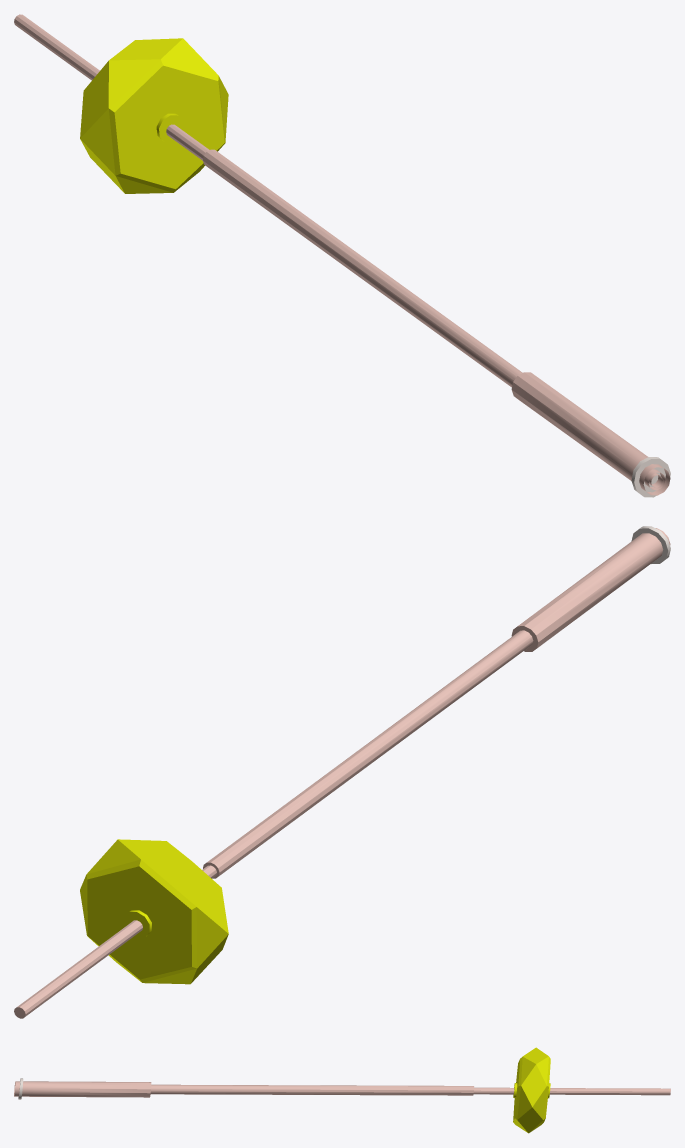
The model's file is branch.031_b.glb.
The picture shows the model from 3 angles, top to bottom: view 1: azimuth 30°, elevation 25°; view 2: azimuth 150°, elevation 25°; view 3: azimuth 270°, elevation 25°; orthographic projection. The views are drawn at different scales.
Visible parts, largest first — view 1: glass.010, MET-59_3D-Model.17676, MET-59_3D-Model.17677; view 2: glass.010, MET-59_3D-Model.17676; view 3: MET-59_3D-Model.17676, glass.010.
Boxes of the visible parts, box(x1,y1,x2,y2) form: glass.010: box(80, 38, 228, 193); MET-59_3D-Model.17676: box(14, 14, 670, 495); MET-59_3D-Model.17677: box(631, 457, 670, 497); glass.010: box(80, 839, 228, 984); MET-59_3D-Model.17676: box(14, 528, 670, 1018); MET-59_3D-Model.17676: box(14, 1081, 670, 1097); glass.010: box(513, 1047, 550, 1133).
Bounding box in the file's own units: 0.0987 × 0.0852 × 0.7335.
